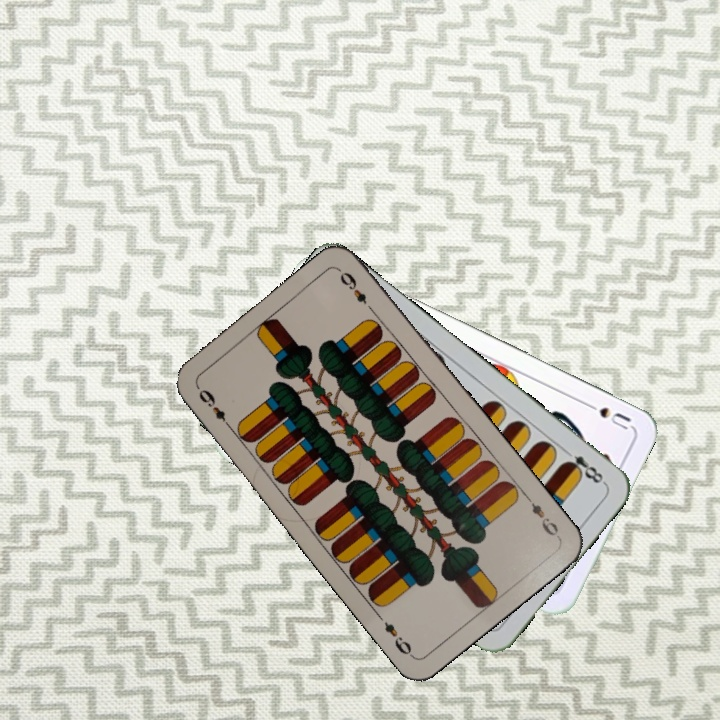E8: (558, 444, 609, 487)
E9: (521, 491, 563, 540), (194, 384, 235, 432)
SU: (578, 397, 634, 433)
